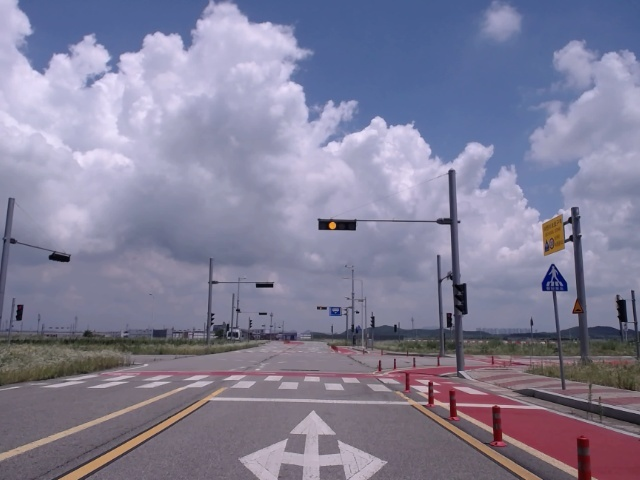orange_4: (317, 220, 357, 231)
